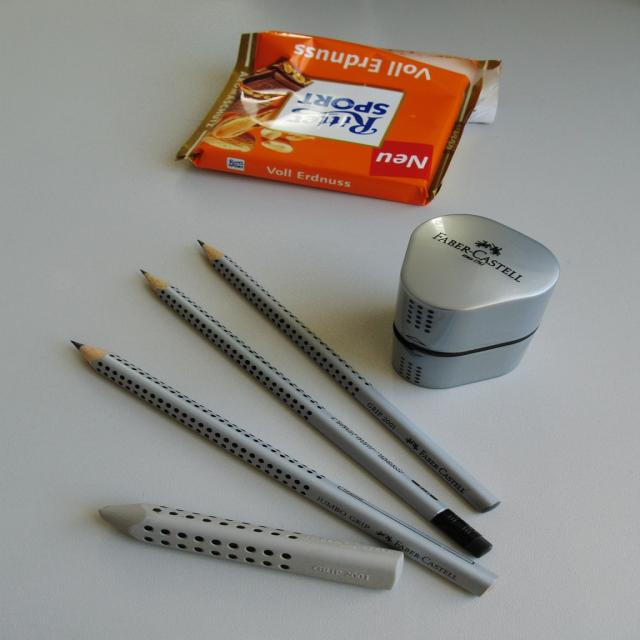rittersport: (270, 76, 407, 146)
